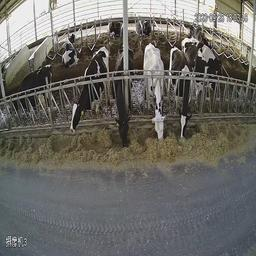cow: (69, 48, 112, 133), (10, 60, 55, 125), (114, 41, 136, 152), (142, 45, 167, 142), (167, 40, 190, 140), (186, 38, 219, 99), (60, 30, 82, 67), (135, 14, 154, 38), (110, 16, 124, 36)
